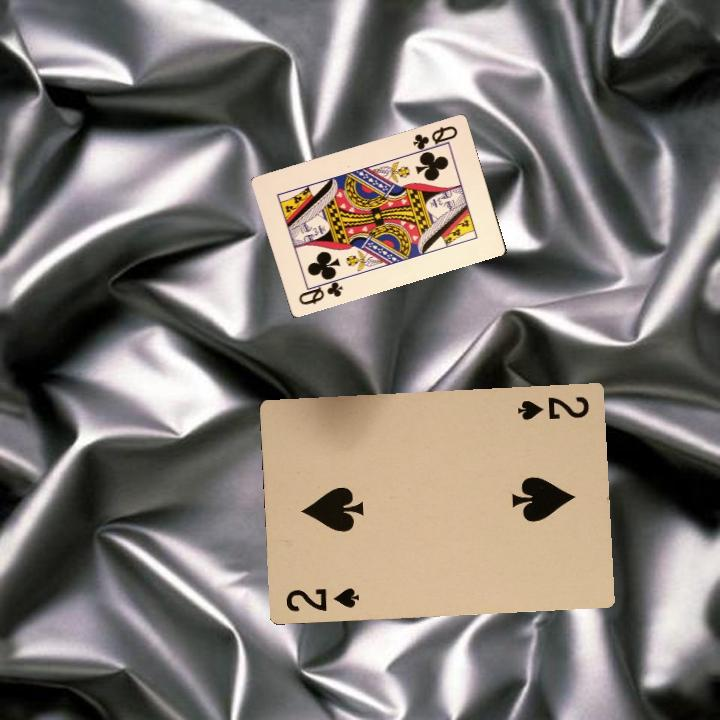2s: (513, 392, 592, 423), (282, 584, 361, 614)
Qc: (408, 122, 460, 156), (295, 273, 345, 308)
